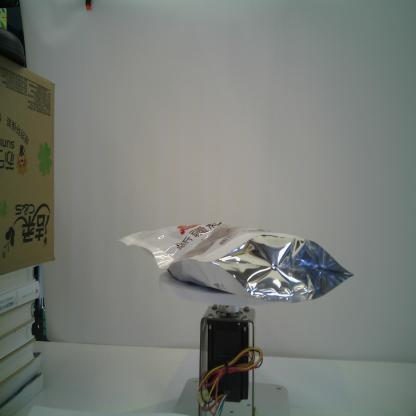Dried Food: (112, 219, 355, 304)
